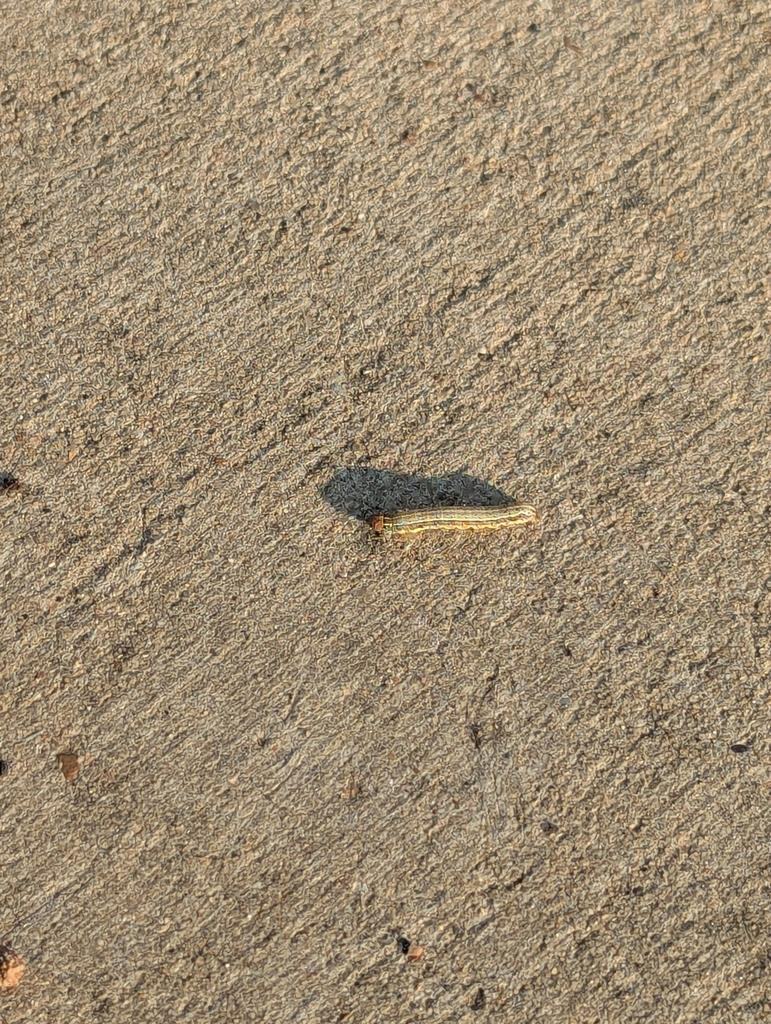caterpillars: (337, 476, 556, 563)
